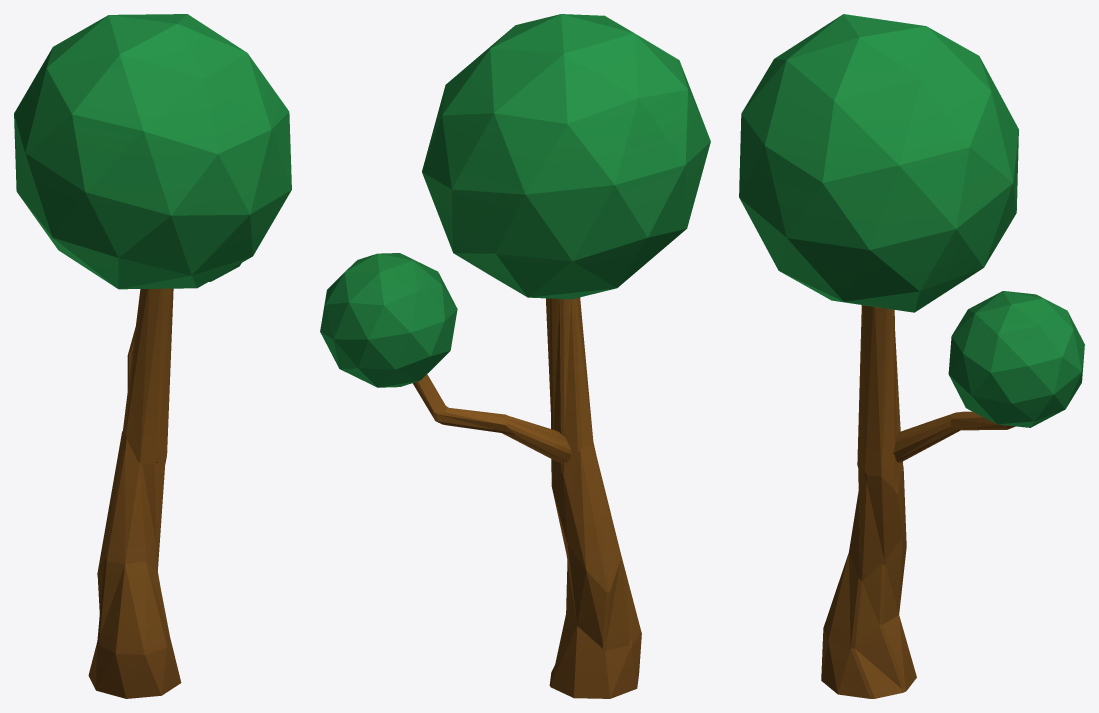
The model's file is tree_sapling.glb.
3 renders of one model, left to right at view 1: azimuth 30°, elevation 25°; view 2: azimuth 150°, elevation 25°; view 3: azimuth 270°, elevation 25°, orthographic.
Visible parts, largest first — view 1: Poplar Tree_2_AA; view 2: Poplar Tree_2_AA; view 3: Poplar Tree_2_AA.
Part boxes in pixels (x1,y1,x2,y2): Poplar Tree_2_AA: (14, 14, 291, 698); Poplar Tree_2_AA: (320, 14, 710, 698); Poplar Tree_2_AA: (739, 14, 1084, 698).
Size of the model in its own units: 0.7433 by 1.59 by 0.7546.
Materials: 1 (1 with a texture image).
